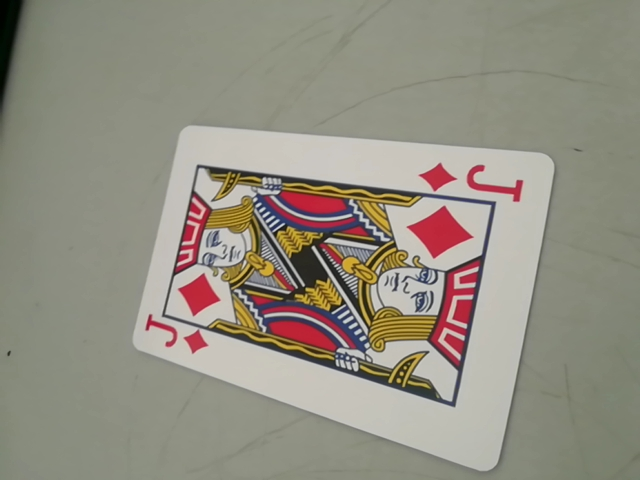fk j: (421, 159, 532, 203), (144, 316, 211, 361)
